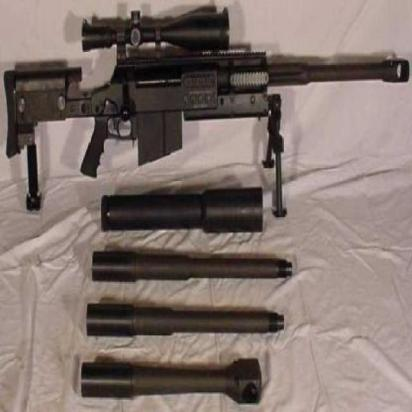Gun: (3, 6, 408, 176)
